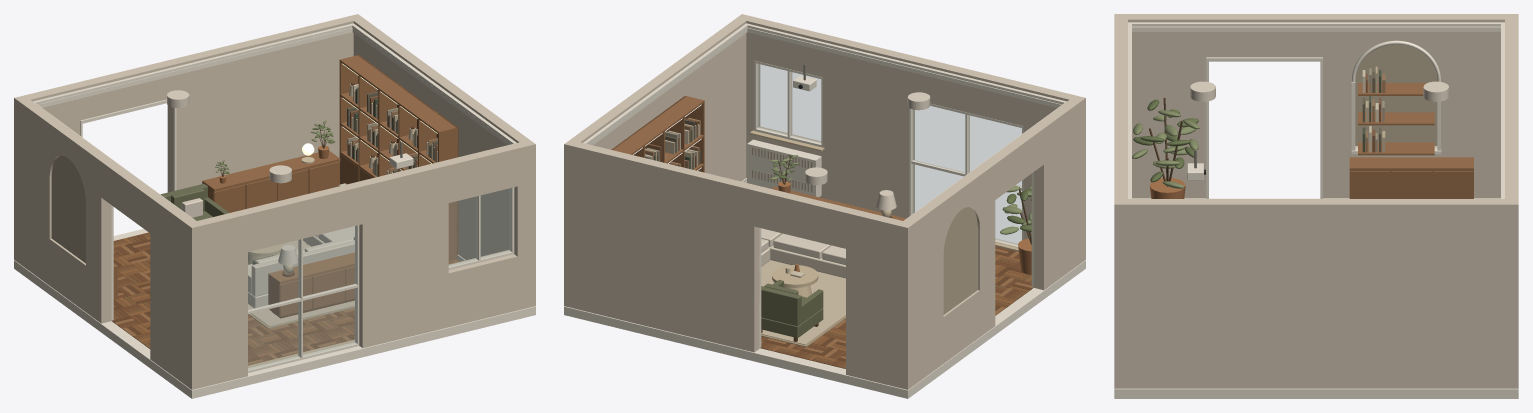
The model's file is sala-livre.glb.
The picture shows the model from 3 angles, left to right: view 1: azimuth 30°, elevation 25°; view 2: azimuth 150°, elevation 25°; view 3: azimuth 270°, elevation 25°; orthographic projection. The views are drawn at different scales.
Parts seen in each view (by area): view 1: Parede front, Parede back, Parede left, Pavimento — tacos de madeira, Estante direita — 3,00 × 0,34 × 2,20 m, Parede right, Móvel sob a projeção, Aparador atrás do sofá — 2,30 × 0,35 m, Nicho em arco, Sofá em L — 2,70 × 1,95 m, Poltrona de linhas direitas — 0,78 × 0,78 m, Luminárias de teto e projetor (+3 smaller); view 2: Parede back, Parede front, Parede left, Parede right, Pavimento — tacos de madeira, Estante direita — 3,00 × 0,34 × 2,20 m, Nicho em arco, Poltrona de linhas direitas — 0,78 × 0,78 m, Grelha existente, Sofá em L — 2,70 × 1,95 m, Tapete, Planta (×2) (+2 smaller); view 3: Parede right, Parede left, Nicho em arco, Parede front, Parede back, Arrumação sob o nicho, Pavimento — tacos de madeira, Planta, Luminárias de teto e projetor.
Part boxes in pixels (box(x1,y1,x2,y2)): Parede front: box(186, 140, 535, 389); Parede back: box(14, 14, 363, 263); Parede left: box(20, 99, 195, 385); Pavimento — tacos de madeira: box(14, 229, 535, 398); Estante direita — 3,00 × 0,34 × 2,20 m: box(339, 55, 458, 260); Parede right: box(351, 18, 529, 259); Móvel sob a projeção: box(202, 150, 340, 212); Aparador atrás do sofá — 2,30 × 0,35 m: box(268, 252, 354, 318); Nicho em arco: box(51, 155, 85, 263); Sofá em L — 2,70 × 1,95 m: box(248, 183, 354, 308); Poltrona de linhas direitas — 0,78 × 0,78 m: box(160, 183, 229, 220); Luminárias de teto e projetor: box(167, 90, 413, 183); Parede back: box(564, 140, 913, 389); Parede front: box(736, 14, 1085, 263); Parede left: box(904, 99, 1079, 385); Parede right: box(570, 18, 748, 181); Pavimento — tacos de madeira: box(564, 183, 1085, 398); Estante direita — 3,00 × 0,34 × 2,20 m: box(611, 95, 704, 172); Nicho em arco: box(943, 207, 977, 314); Poltrona de linhas direitas — 0,78 × 0,78 m: box(761, 279, 823, 341); Grelha existente: box(747, 139, 821, 197); Sofá em L — 2,70 × 1,95 m: box(761, 228, 845, 278); Tapete: box(761, 260, 845, 347); Planta (×2): box(770, 154, 1031, 274); Parede right: box(1128, 199, 1504, 388); Parede left: box(1128, 14, 1504, 198); Nicho em arco: box(1351, 40, 1441, 155); Parede front: box(1114, 14, 1131, 388); Parede back: box(1501, 14, 1518, 388); Arrumação sob o nicho: box(1349, 157, 1473, 198); Pavimento — tacos de madeira: box(1114, 198, 1518, 398); Planta: box(1132, 97, 1199, 198); Luminárias de teto e projetor: box(1187, 81, 1448, 180).
Size of the model in its own units: 6 by 2.85 by 5.38.
